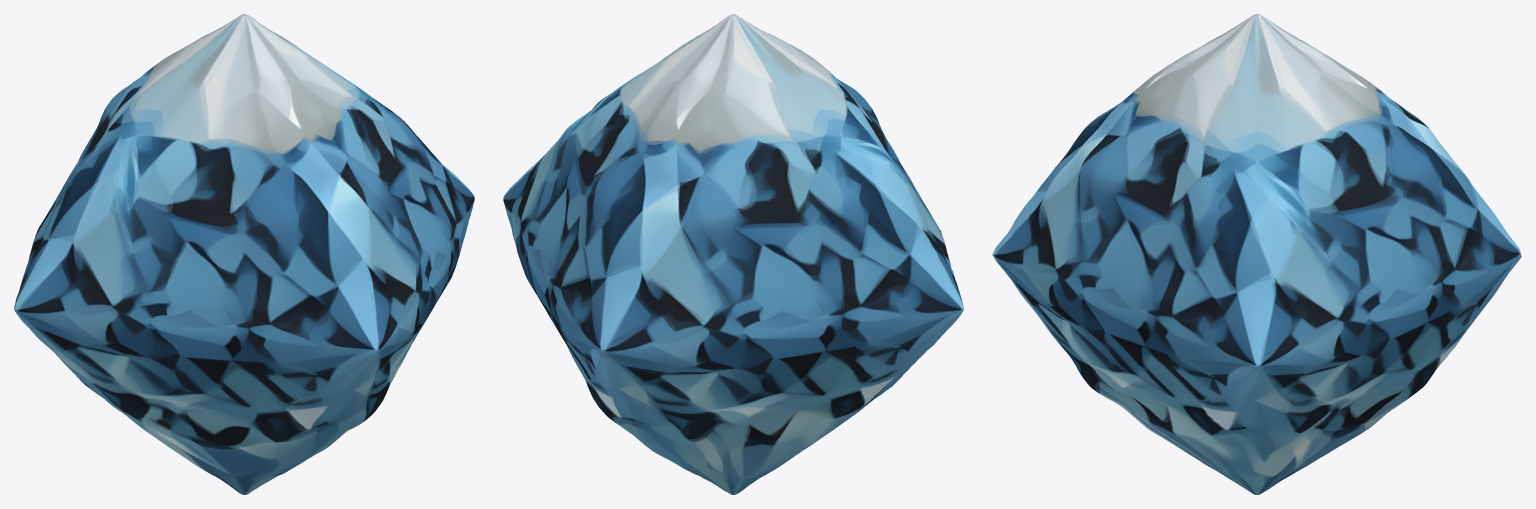
The model's file is base_basic_shaded.glb.
The picture shows the model from 3 angles, left to right: view 1: azimuth 30°, elevation 25°; view 2: azimuth 150°, elevation 25°; view 3: azimuth 270°, elevation 25°; orthographic projection.
Parts seen in each view (by area): view 1: model; view 2: model; view 3: model.
Boxes of the visible parts, x1,y1,x2,y2 form: model: (14,14,474,494); model: (503,14,963,494); model: (992,14,1521,494).
Size of the model in its own units: 1.9 by 1.9 by 1.9.
Materials: 1 (1 with a texture image).
